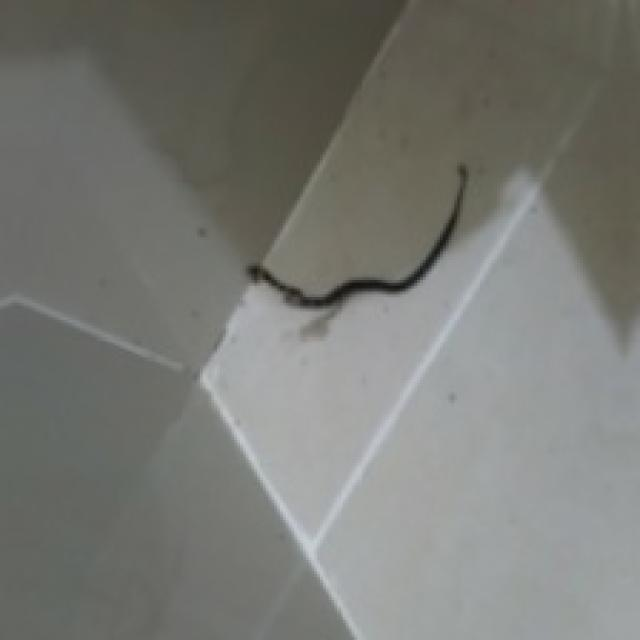gunthers philippine shrub snake: (254, 0, 637, 311), (249, 166, 466, 303)
